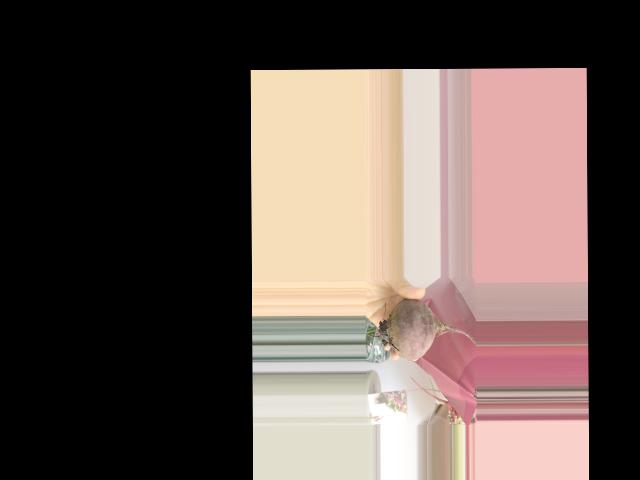beet: (365, 298, 476, 360)
